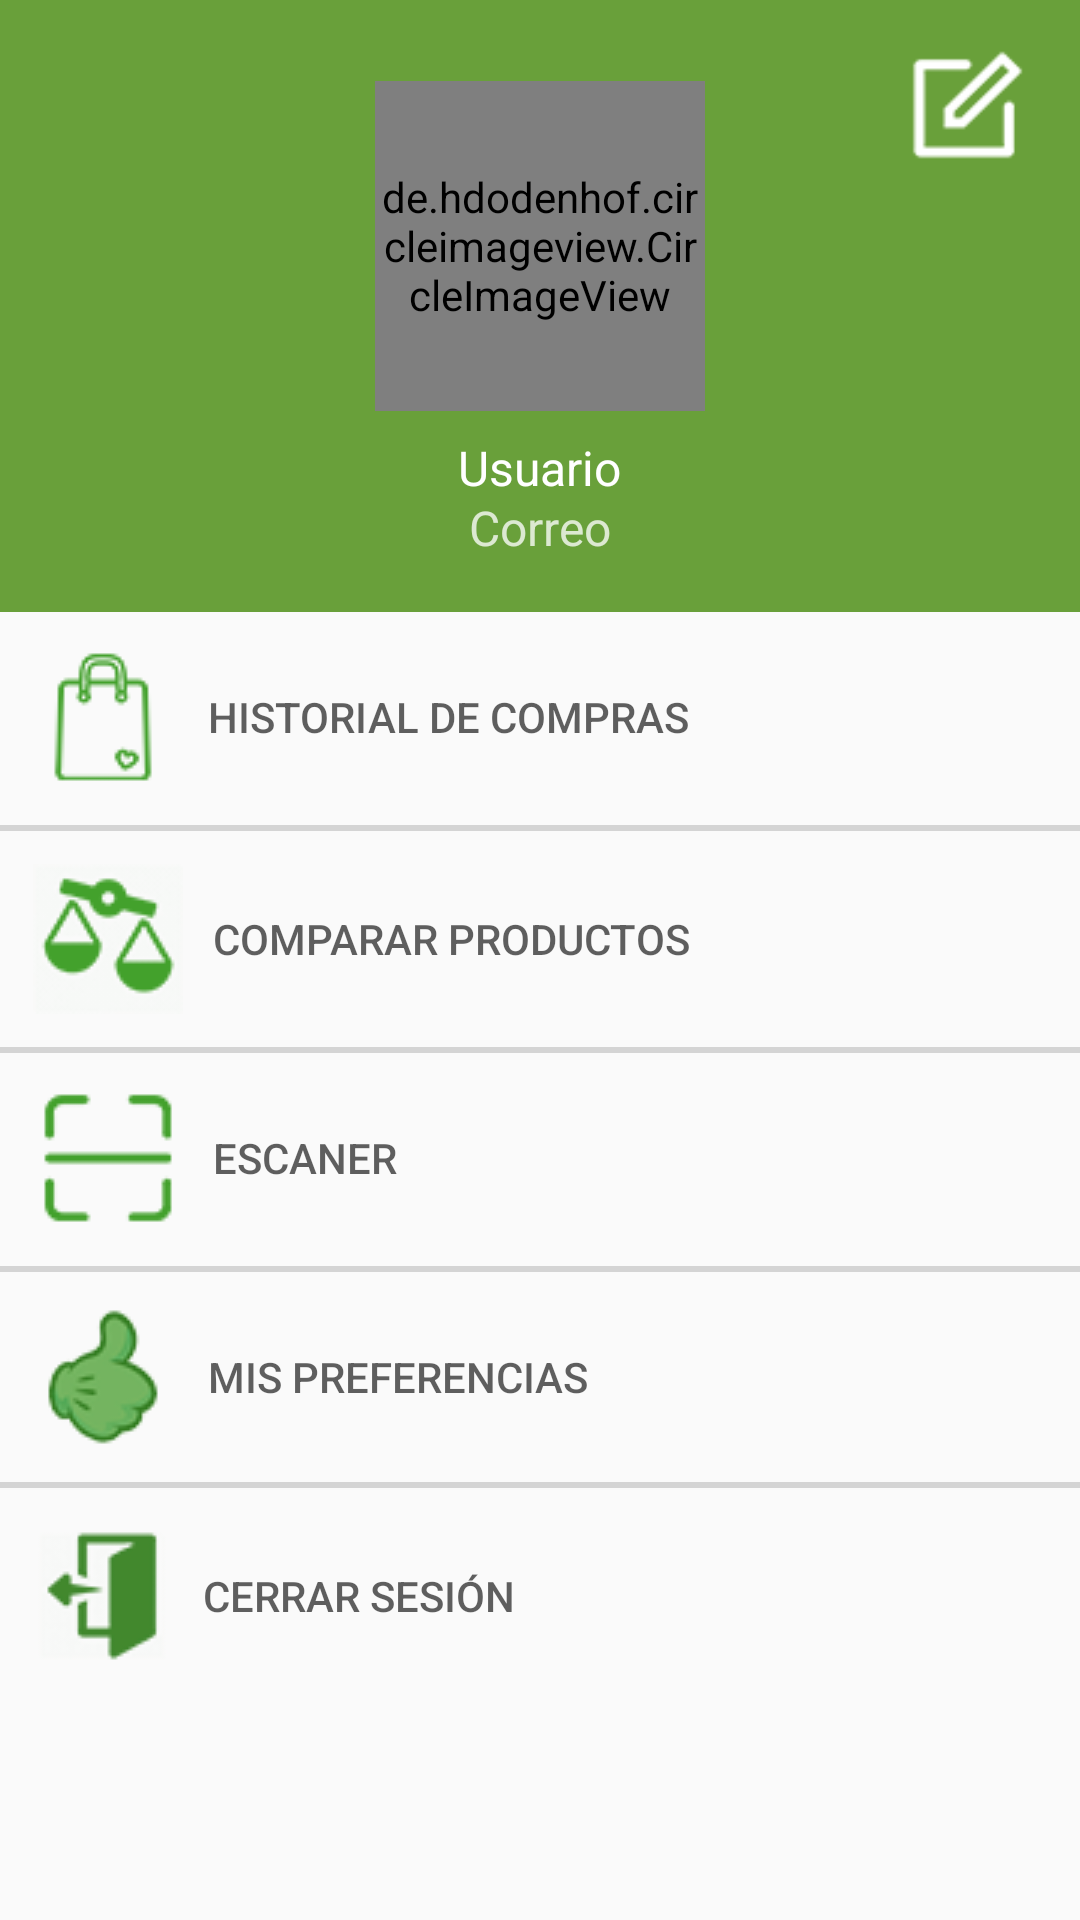

Icons on this 1080×1920 Android screen, each with the point to tap as (x=x, y=y):
editar: (x=967, y=105)
